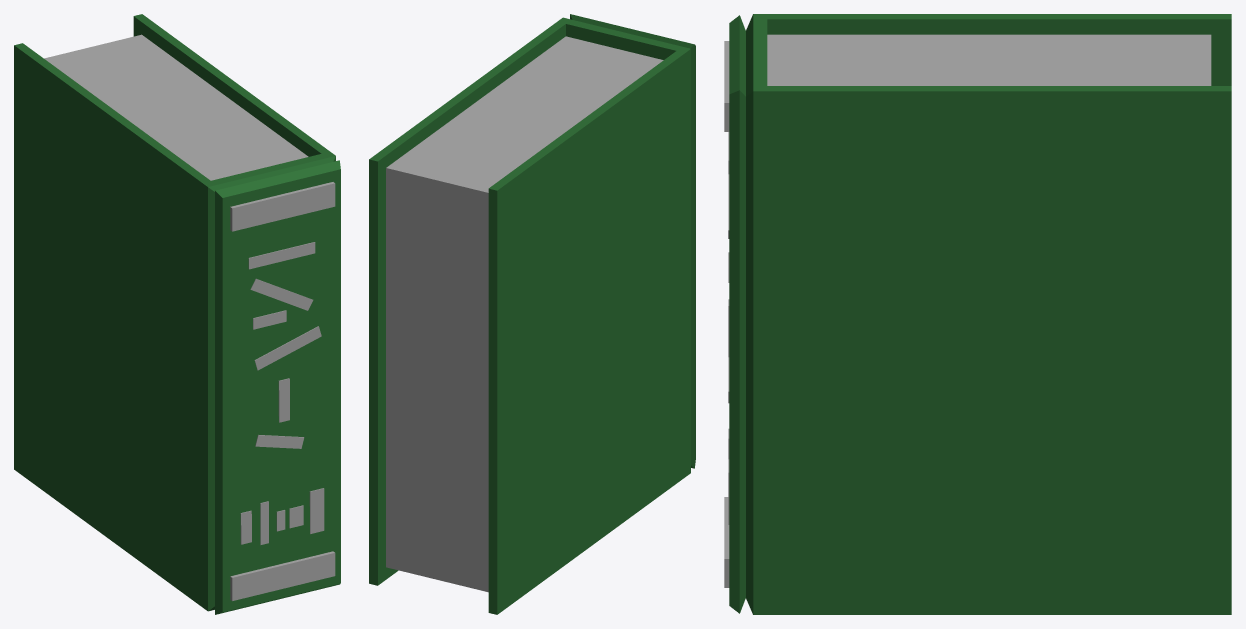
The model's file is Book_Large.fbx.
3 views of the same model, side by side, from view 1: azimuth 30°, elevation 25°; view 2: azimuth 150°, elevation 25°; view 3: azimuth 270°, elevation 25° (orthographic). The views are drawn at different scales.
Parts seen in each view (by area): view 1: Book_v1; view 2: Book_v1; view 3: Book_v1.
Part boxes in pixels (x1,y1,x2,y2): Book_v1: [14, 14, 340, 614]; Book_v1: [369, 14, 695, 614]; Book_v1: [724, 14, 1231, 614].
Bounding box in the file's own units: 5.74 × 18.17 × 15.95.
